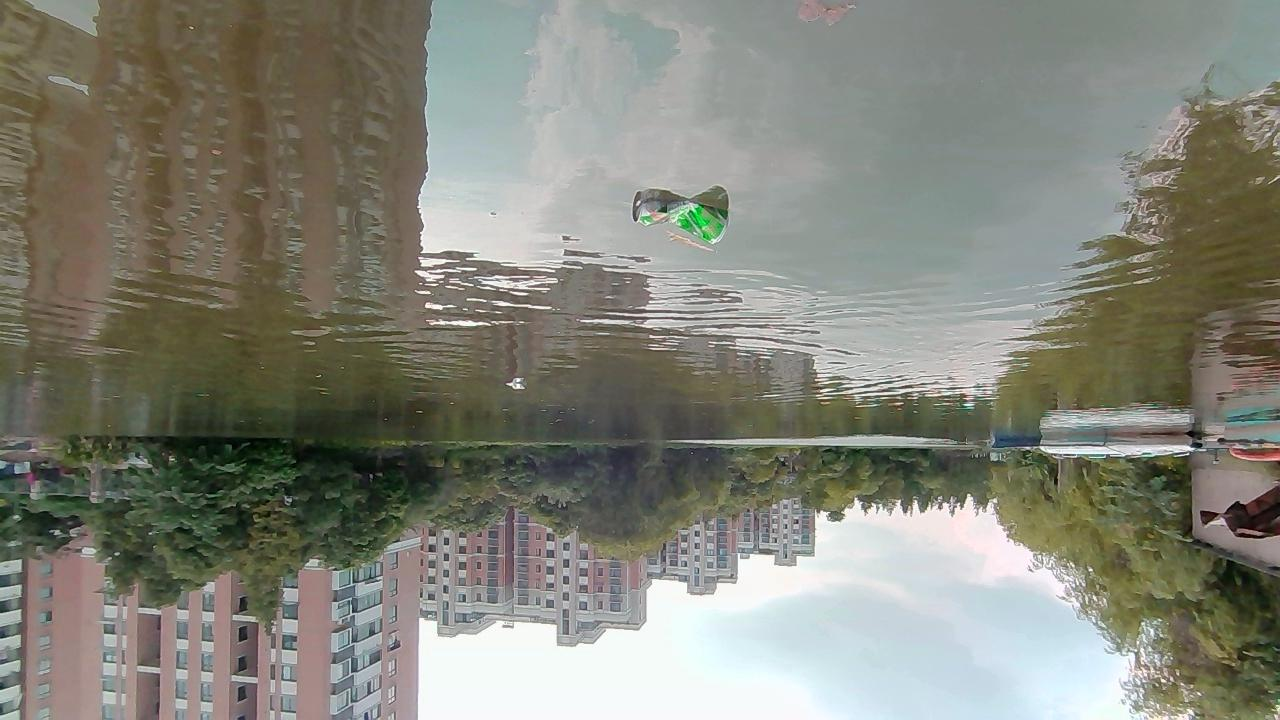Metal: (630, 197, 731, 246)
